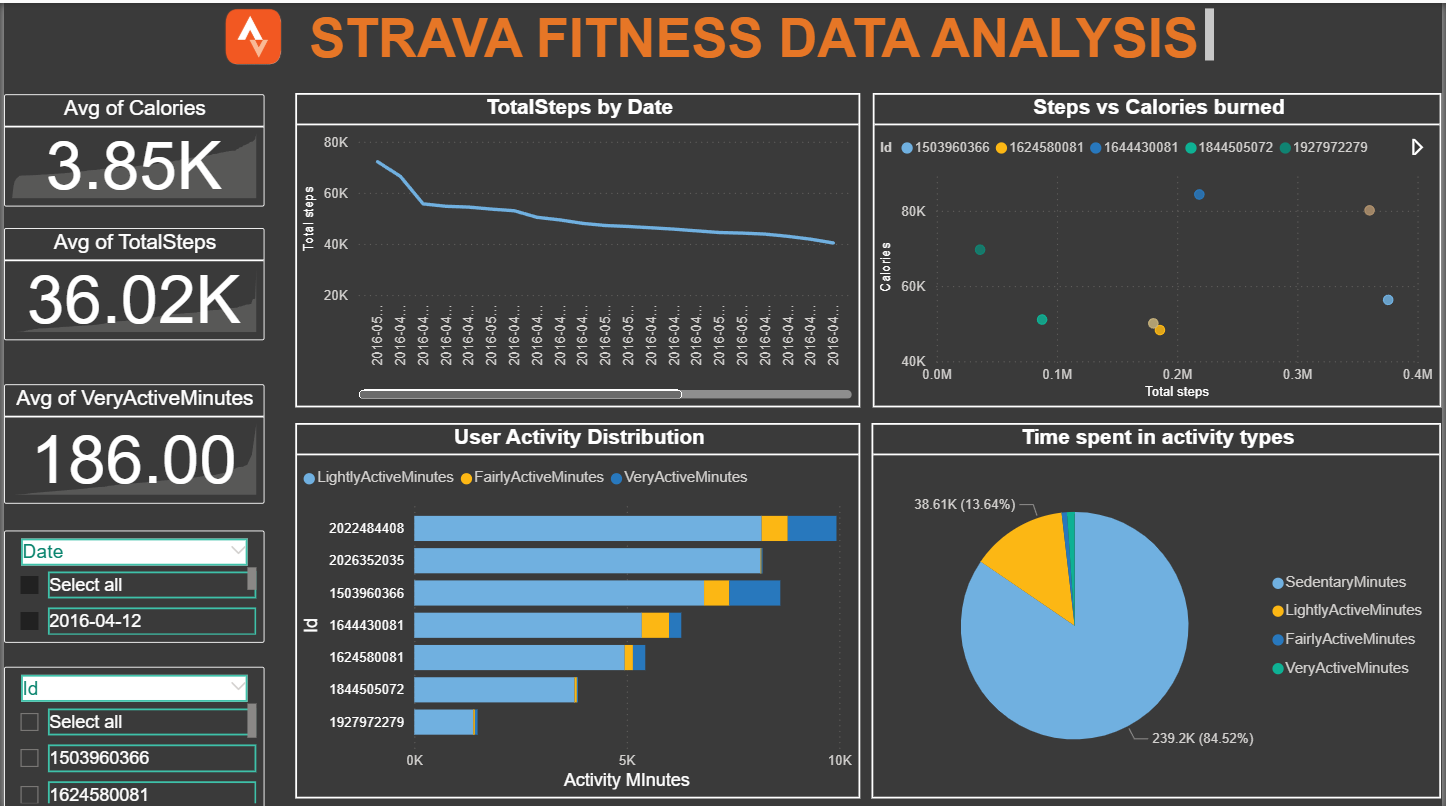

The dashboard page shown, as its layout file describes it:
{"tool":"powerbi","page":{"name":"Page 1","canvas":[1280,720],"ordinal":0},"visuals":[{"type":"kpi","title":"Avg of Calories","fields":{"Indicator":["Avg(fitness_data merged_strava_fitness_data.Calories)"],"TrendLine":["fitness_data merged_strava_fitness_data.Calories"]},"box":[0,80.8,231.6,100.1],"z":0},{"type":"kpi","title":"Avg of TotalSteps","fields":{"Indicator":["Avg(fitness_data merged_strava_fitness_data.TotalSteps)"],"TrendLine":["fitness_data merged_strava_fitness_data.TotalSteps"]},"box":[0,200.3,231.6,100.1],"z":1},{"type":"kpi","title":"Avg of VeryActiveMinutes","fields":{"Indicator":["Avg(fitness_data merged_strava_fitness_data.VeryActiveMinutes)"],"TrendLine":["fitness_data merged_strava_fitness_data.VeryActiveMinutes"]},"box":[0,339,231.6,106.2],"z":2},{"type":"slicer","fields":{"Values":["fitness_data merged_strava_fitness_data.Date"]},"box":[0,469.3,231.6,100.1],"z":5},{"type":"slicer","fields":{"Values":["fitness_data merged_strava_fitness_data.Id"]},"box":[0,591.2,231.6,129.1],"z":6},{"type":"textbox","box":[266.6,0,815.6,60.3],"z":7},{"type":"image","box":[183.4,0,76,60.3],"z":10},{"type":"lineChart","title":"TotalSteps by Date","fields":{"Category":["fitness_data merged_strava_fitness_data.Date"],"Y":["Sum(fitness_data merged_strava_fitness_data.TotalSteps)"]},"box":[259.4,79.6,503.1,279.9],"z":11},{"type":"scatterChart","title":"Steps vs Calories burned","fields":{"X":["Sum(fitness_data merged_strava_fitness_data.TotalSteps)"],"Y":["Sum(fitness_data merged_strava_fitness_data.Calories)"],"Series":["fitness_data merged_strava_fitness_data.Id"]},"box":[773.3,79.6,506.7,279.9],"z":12},{"type":"barChart","title":"User Activity Distribution","fields":{"Y":["Sum(fitness_data merged_strava_fitness_data.LightlyActiveMinutes)","Sum(fitness_data merged_strava_fitness_data.FairlyActiveMinutes)","Sum(fitness_data merged_strava_fitness_data.VeryActiveMinutes)"],"Category":["fitness_data merged_strava_fitness_data.Id"]},"box":[259.4,374,503.1,334.2],"z":13},{"type":"pieChart","title":"Time spent in activity types","fields":{"Y":["Sum(fitness_data merged_strava_fitness_data.SedentaryMinutes)","Sum(fitness_data merged_strava_fitness_data.LightlyActiveMinutes)","Sum(fitness_data merged_strava_fitness_data.FairlyActiveMinutes)","Sum(fitness_data merged_strava_fitness_data.VeryActiveMinutes)"]},"box":[773,374,507,334],"z":14}]}

Visuals, with their boxes in screenshot pixels (x1, y1, x2, y2), scaled from the page's 1280x720 canvas onto the 1446x806 screenshot:
"Avg of Calories" kpi: bbox=(0, 90, 262, 203)
"Avg of TotalSteps" kpi: bbox=(0, 224, 262, 336)
"Avg of VeryActiveMinutes" kpi: bbox=(0, 379, 262, 498)
slicer - fitness_data merged_strava_fitness_data.Date: bbox=(0, 525, 262, 637)
slicer - fitness_data merged_strava_fitness_data.Id: bbox=(0, 662, 262, 805)
textbox: bbox=(301, 0, 1223, 68)
image: bbox=(207, 0, 293, 68)
"TotalSteps by Date" lineChart: bbox=(293, 89, 861, 402)
"Steps vs Calories burned" scatterChart: bbox=(874, 89, 1445, 402)
"User Activity Distribution" barChart: bbox=(293, 419, 861, 793)
"Time spent in activity types" pieChart: bbox=(873, 419, 1445, 793)
